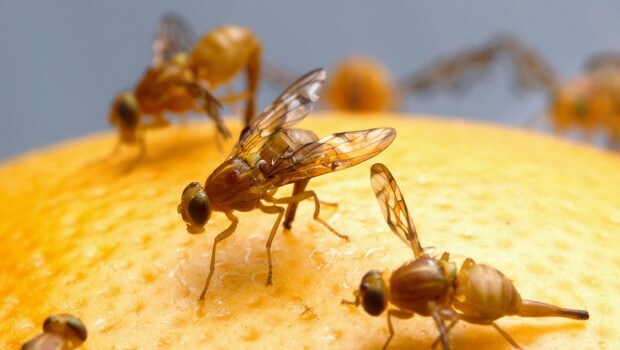phorid fly: (173, 67, 404, 281)
